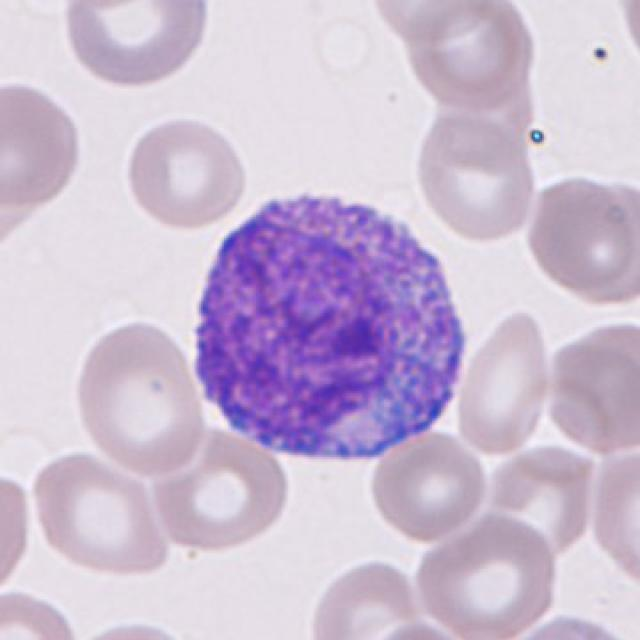Lymphocyte: (178, 176, 482, 478)
RBC: (16, 0, 256, 133), (71, 313, 208, 478), (411, 512, 564, 640), (149, 423, 295, 555), (27, 450, 173, 580), (409, 107, 540, 245), (450, 304, 556, 459), (400, 0, 540, 112), (121, 112, 251, 231), (519, 169, 638, 297), (365, 425, 491, 544), (59, 0, 213, 89), (542, 322, 640, 457), (483, 446, 601, 558), (0, 75, 87, 215), (303, 554, 421, 640), (588, 446, 640, 592), (369, 0, 494, 44), (0, 462, 36, 603), (0, 583, 84, 638), (510, 611, 636, 640), (64, 615, 213, 638), (362, 618, 476, 640), (613, 0, 639, 76)
